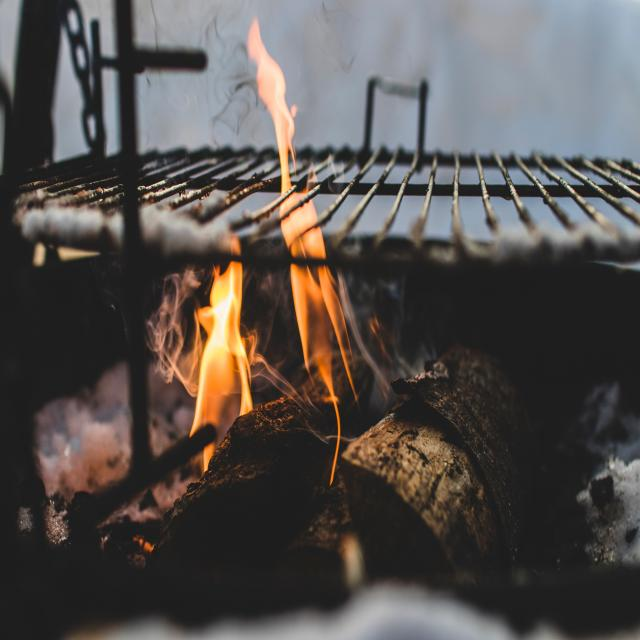fire: (179, 21, 379, 444), (240, 46, 374, 437), (153, 258, 269, 431)
